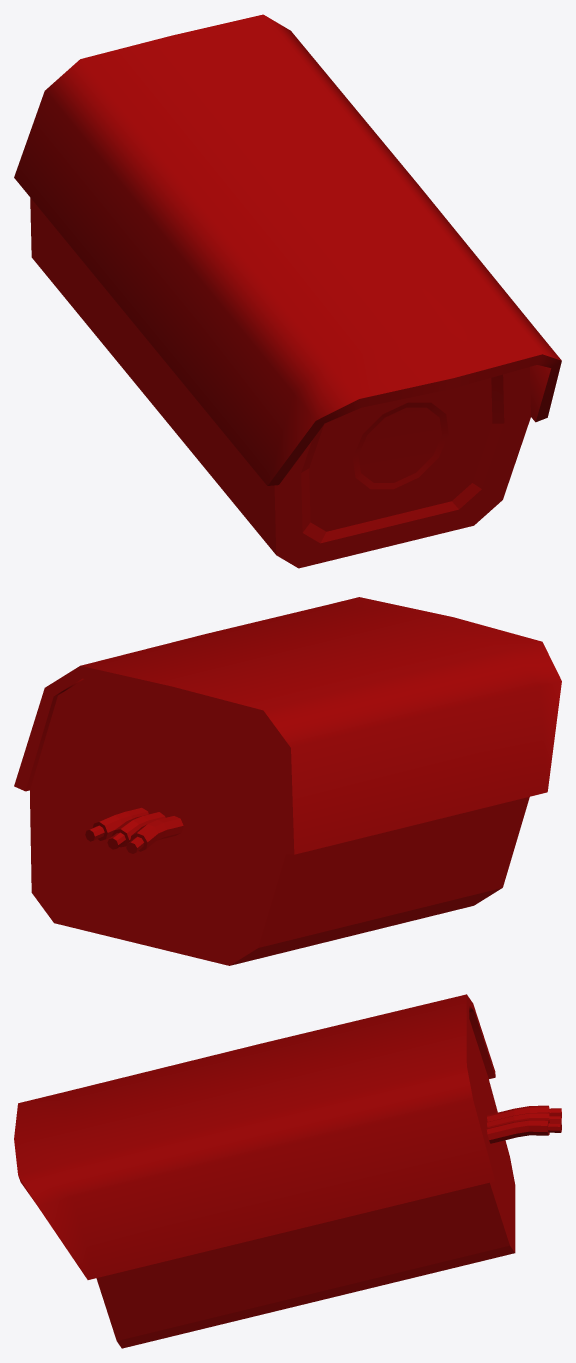
File: camera.fbx
3 views of the same model, one above another, from view 1: azimuth 30°, elevation 25°; view 2: azimuth 150°, elevation 25°; view 3: azimuth 270°, elevation 25° (orthographic). The views are drawn at different scales.
Visible parts, largest first — view 1: camera; view 2: camera; view 3: camera.
Part boxes in pixels (x1=…): camera: x1=14, y1=14, x2=561, y2=568; camera: x1=14, y1=597, x2=561, y2=965; camera: x1=14, y1=994, x2=561, y2=1348.
Bounding box in the file's own units: 31.96 × 38.64 × 67.3.
